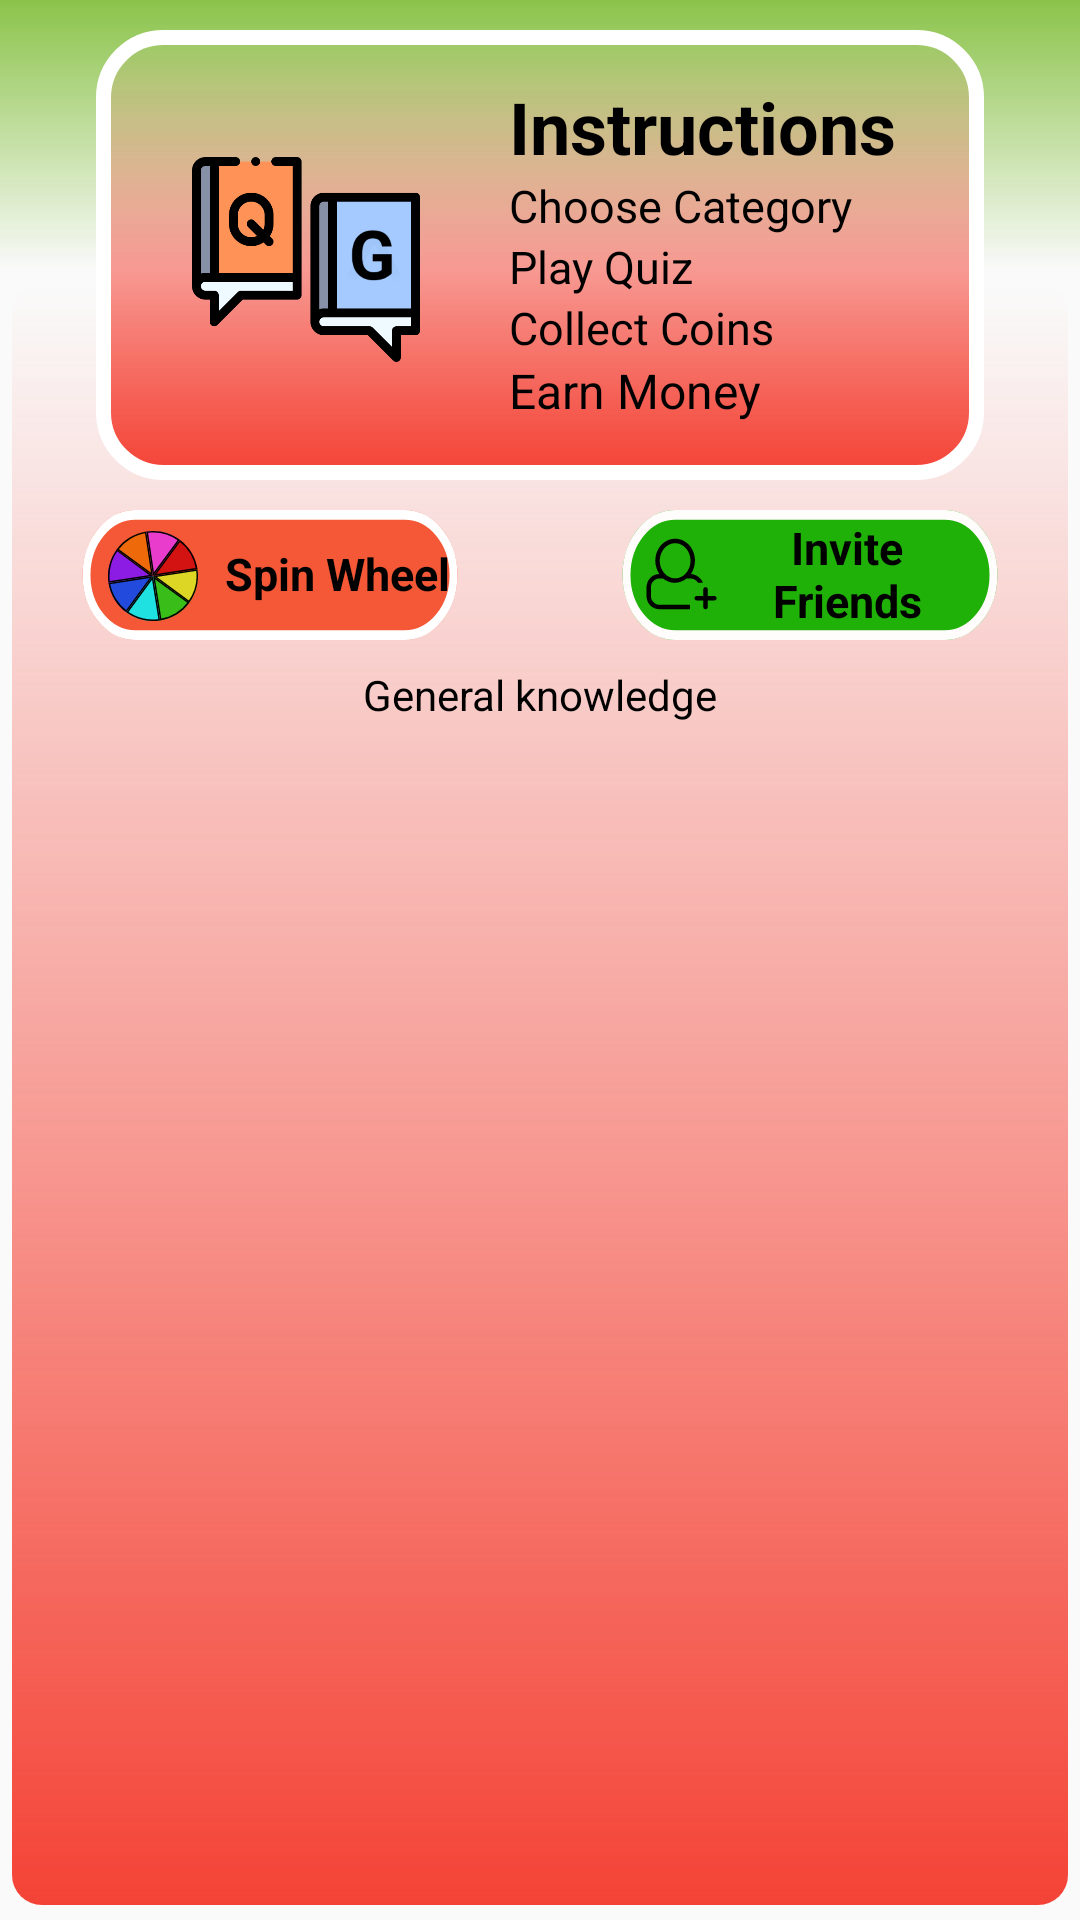

Where to tap for icons on this 1080px×1920px app screen, as (x,y):
asks: (306,259)
